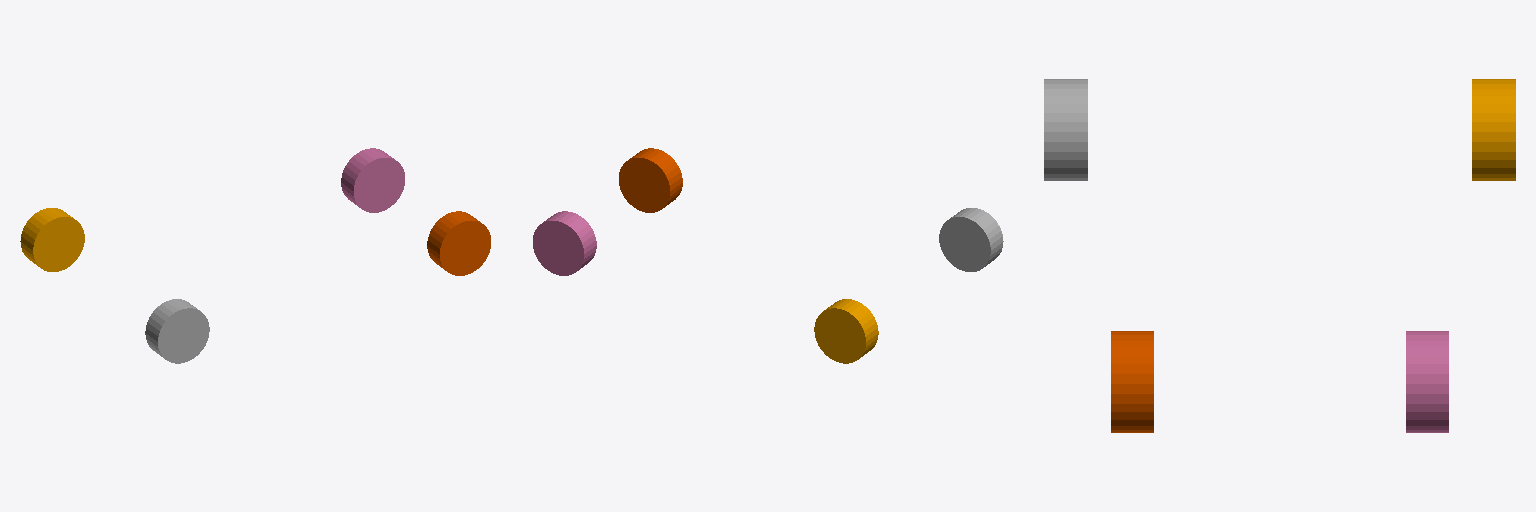
robot.urdf — omronld:
<?xml version="1.0" ?>
<!-- =================================================================================== -->
<!-- |    This document was autogenerated by xacro from omronld.urdf.xacro             | -->
<!-- |    EDITING THIS FILE BY HAND IS NOT RECOMMENDED                                 | -->
<!-- =================================================================================== -->
<robot name="omronld" xmlns:controller="http://playerstage.sourceforge.net/gazebo/xmlschema/#controller" xmlns:interface="http://playerstage.sourceforge.net/gazebo/xmlschema/#interface" xmlns:sensor="http://playerstage.sourceforge.net/gazebo/xmlschema/#sensor" xmlns:xacro="http://ros.org/wiki/xacro">
  <!--general-->
  <!--wheels-->
  <!-- LASER -->
  <!-- base_link origin point is center of rotation, on the floor. -->
  <link name="base_link">
    <inertial>
      <mass value="63.5664"/>
      <!-- kg -->
      <inertia ixx="3.1802" ixy="0" ixz="0" iyy="2.9908" iyz="0" izz="2.2912"/>
    </inertial>
    <visual>
      <geometry name="base_link_visual_geom">
        <mesh filename="package://omronld_description/meshes/omronld_visual.stl" scale="0.001 0.001 0.001"/>
      </geometry>
      <origin rpy="1.570795 0 1.570795" xyz="-0.000880947 0 0.0876498"/>
    </visual>
    <collision name="base_link_collision">
      <geometry name="base_link_collision_geom">
        <box size="0.7 0.5 0.05"/>
      </geometry>
      <origin rpy="0 0 0" xyz="0 0 0.1"/>
    </collision>
  </link>
  <!-- omronld wheel macros -->
  <link name="left_wheel_link">
    <inertial>
      <mass value="1.1"/>
      <origin xyz="0 0 0"/>
      <inertia ixx="0.02" ixy="0" ixz="0" iyy="0.02" iyz="0" izz="0.01"/>
    </inertial>
    <collision>
      <origin rpy="1.570795 0 0" xyz="0 0 0"/>
      <geometry>
        <cylinder length="0.048" radius="0.09684315"/>
      </geometry>
    </collision>
  </link>
  <gazebo reference="left_wheel_link">
    <!--http://wiki.ros.org/urdf/Tutorials/Adding%20Physical%20and%20Collision%20Properties%20to%20a%20URDF%20Model-->
    <mu1 value="100.0"/>
    <mu2 value="100.0"/>
    <kp value="10000000.0"/>
    <kd value="1.0"/>
    <fdir1 value="1 0 0"/>
  </gazebo>
  <joint name="left_wheel" type="continuous">
    <parent link="base_link"/>
    <child link="left_wheel_link"/>
    <origin rpy="0 0 0" xyz="0.0 0.19648885 0.09684315"/>
    <axis rpy="0 0 0" xyz="0 1 0"/>
    <joint_properties damping="1.0" friction="10.0"/>
  </joint>
  <transmission name="left_wheel_trans" type="SimpleTransmission">
    <type>transmission_interface/SimpleTransmission</type>
    <actuator name="left_wheel_motor">
      <mechanicalReduction>1</mechanicalReduction>
    </actuator>
    <joint name="left_wheel">
      <hardwareInterface>hardware_interface/EffortJointInterface</hardwareInterface>
    </joint>
  </transmission>
  <link name="right_wheel_link">
    <inertial>
      <mass value="1.1"/>
      <origin xyz="0 0 0"/>
      <inertia ixx="0.02" ixy="0" ixz="0" iyy="0.02" iyz="0" izz="0.01"/>
    </inertial>
    <collision>
      <origin rpy="1.570795 0 0" xyz="0 0 0"/>
      <geometry>
        <cylinder length="0.048" radius="0.09684315"/>
      </geometry>
    </collision>
  </link>
  <gazebo reference="right_wheel_link">
    <!--http://wiki.ros.org/urdf/Tutorials/Adding%20Physical%20and%20Collision%20Properties%20to%20a%20URDF%20Model-->
    <mu1 value="100.0"/>
    <mu2 value="100.0"/>
    <kp value="10000000.0"/>
    <kd value="1.0"/>
    <fdir1 value="1 0 0"/>
  </gazebo>
  <joint name="right_wheel" type="continuous">
    <parent link="base_link"/>
    <child link="right_wheel_link"/>
    <origin rpy="0 0 0" xyz="0.0 -0.19648885 0.09684315"/>
    <axis rpy="0 0 0" xyz="0 1 0"/>
    <joint_properties damping="1.0" friction="10.0"/>
  </joint>
  <transmission name="right_wheel_trans" type="SimpleTransmission">
    <type>transmission_interface/SimpleTransmission</type>
    <actuator name="right_wheel_motor">
      <mechanicalReduction>1</mechanicalReduction>
    </actuator>
    <joint name="right_wheel">
      <hardwareInterface>hardware_interface/EffortJointInterface</hardwareInterface>
    </joint>
  </transmission>
  <!-- LASER -->
  <link name="base_laser">
    <inertial>
      <mass value="1.1"/>
      <origin xyz="0 0 0"/>
      <inertia ixx="0.00307156543804" ixy="0.0" ixz="0.0" iyy="0.00312849041527" iyz="0.0" izz="0.00196432421427"/>
    </inertial>
    <visual>
      <origin rpy="0 0 0" xyz="0 0 0"/>
      <geometry>
        <!-- Origin of this mesh is the focal point of the LIDAR. -->
        <mesh filename="package://omronld_description/meshes/laser/sick-lms1xx.dae"/>
      </geometry>
    </visual>
    <collision>
      <origin rpy="0 0 0" xyz="0 0 -0.05"/>
      <geometry>
        <box size="0.105 0.1 0.1"/>
      </geometry>
    </collision>
  </link>
  <joint name="base_laser_joint" type="fixed">
    <origin rpy="3.14159 0.0 0.0" xyz="0.2652 0.0 0.201"/>
    <parent link="base_link"/>
    <child link="base_laser"/>
  </joint>
  <gazebo reference="base_laser">
    <turnGravityOff>false</turnGravityOff>
    <sensor name="base_laser" type="ray">
      <pose>0 0 0 0 0 0</pose>
      <visualize>false</visualize>
      <update_rate>50</update_rate>
      <ray>
        <scan>
          <horizontal>
            <samples>720</samples>
            <resolution>1</resolution>
            <min_angle>-2.0944</min_angle>
            <max_angle>2.0944</max_angle>
          </horizontal>
        </scan>
        <range>
          <min>0.1</min>
          <max>15</max>
          <resolution>0.01</resolution>
        </range>
        <noise>
          <type>gaussian</type>
          <mean>0.0</mean>
          <stddev>0.001</stddev>
        </noise>
      </ray>
      <plugin filename="libgazebo_ros_laser.so" name="gazebo_ros_laser">
        <topicName>scan</topicName>
        <frameName>base_laser</frameName>
      </plugin>
    </sensor>
  </gazebo>
  <link name="base_laser_fake">
    <inertial>
      <mass value="1.1"/>
      <origin xyz="0 0 0"/>
      <inertia ixx="0.00307156543804" ixy="0.0" ixz="0.0" iyy="0.00312849041527" iyz="0.0" izz="0.00196432421427"/>
    </inertial>
    <visual>
      <origin rpy="0 0 0" xyz="0 0 0"/>
      <geometry>
        <!-- Origin of this mesh is the focal point of the LIDAR. -->
        <mesh filename="package://omronld_description/meshes/laser/sick-lms1xx.dae"/>
      </geometry>
    </visual>
    <collision>
      <origin rpy="0 0 0" xyz="0 0 -0.05"/>
      <geometry>
        <box size="0.105 0.1 0.1"/>
      </geometry>
    </collision>
  </link>
  <joint name="base_laser_fake_joint" type="fixed">
    <origin rpy="-3.14159 0.0 0.0" xyz="-0.2652 0.0 0.201"/>
    <parent link="base_link"/>
    <child link="base_laser_fake"/>
  </joint>
  <gazebo reference="base_laser_fake">
    <turnGravityOff>false</turnGravityOff>
    <sensor name="base_laser_fake" type="ray">
      <pose>0 0 0 0 0 0</pose>
      <visualize>false</visualize>
      <update_rate>50</update_rate>
      <ray>
        <scan>
          <horizontal>
            <samples>720</samples>
            <resolution>1</resolution>
            <min_angle>-2.0944</min_angle>
            <max_angle>2.0944</max_angle>
          </horizontal>
        </scan>
        <range>
          <min>0.1</min>
          <max>15</max>
          <resolution>0.01</resolution>
        </range>
        <noise>
          <type>gaussian</type>
          <mean>0.0</mean>
          <stddev>0.001</stddev>
        </noise>
      </ray>
      <plugin filename="libgazebo_ros_laser.so" name="gazebo_ros_laser">
        <topicName>scanFake</topicName>
        <frameName>base_laser_fake</frameName>
      </plugin>
    </sensor>
  </gazebo>
  <!-- GAZEBO PLUGINS-->
  <!-- http://wiki.ros.org/urdf/Tutorials/Using%20a%20URDF%20in%20Gazebo-->
  <gazebo>
    <plugin filename="libgazebo_ros_control.so" name="gazebo_ros_control">
      <legacyModeNS>false</legacyModeNS>
      <robotParam>/omronld_description</robotParam>
    </plugin>
  </gazebo>
  <gazebo>
    <plugin filename="libgazebo_ros_diff_drive.so" name="differential_drive_controller">
      <rosDebugLevel>Debug</rosDebugLevel>
      <legacyMode>false</legacyMode>
      <publishWheelTF>false</publishWheelTF>
      <robotNamespace>/</robotNamespace>
      <publishTf>1</publishTf>
      <publishWheelJointState>true</publishWheelJointState>
      <alwaysOn>true</alwaysOn>
      <updateRate>100.0</updateRate>
      <leftJoint>left_wheel</leftJoint>
      <rightJoint>right_wheel</rightJoint>
      <wheelSeparation>0.3929777</wheelSeparation>
      <wheelDiameter>0.1936863</wheelDiameter>
      <broadcastTF>1</broadcastTF>
      <wheelTorque>100</wheelTorque>
      <wheelAcceleration>1.8</wheelAcceleration>
      <commandTopic>cmd_vel</commandTopic>
      <odometryFrame>odom</odometryFrame>
      <odometryTopic>odom</odometryTopic>
      <robotBaseFrame>base_link</robotBaseFrame>
    </plugin>
  </gazebo>
  <!-- four passive caster  -->
  <link name="r_f_caster_caster_link">
    <inertial>
      <mass value="0.05"/>
      <origin xyz="0 0 0"/>
      <inertia ixx="0.01" ixy="0" ixz="0" iyy="0.01" iyz="0" izz="0.01"/>
    </inertial>
    <collision>
      <origin rpy="1.570795 0 0" xyz="0 0 0"/>
      <geometry>
        <cylinder length="0.03175" radius="0.0375"/>
      </geometry>
    </collision>
    <visual>
      <origin rpy="1.570795 0 0" xyz="0 0 0"/>
      <geometry>
        <cylinder length="0.03175" radius="0.0375"/>
      </geometry>
    </visual>
  </link>
  <joint name="r_f_caster_caster" type="fixed">
    <parent link="base_link"/>
    <child link="r_f_caster_caster_link"/>
    <axis rpy="0 0 0" xyz="0 0 1"/>
    <origin rpy="0 0 0" xyz="0.2076340 -0.10795 0.0375"/>
  </joint>
  <link name="l_f_caster_caster_link">
    <inertial>
      <mass value="0.05"/>
      <origin xyz="0 0 0"/>
      <inertia ixx="0.01" ixy="0" ixz="0" iyy="0.01" iyz="0" izz="0.01"/>
    </inertial>
    <collision>
      <origin rpy="1.570795 0 0" xyz="0 0 0"/>
      <geometry>
        <cylinder length="0.03175" radius="0.0375"/>
      </geometry>
    </collision>
    <visual>
      <origin rpy="1.570795 0 0" xyz="0 0 0"/>
      <geometry>
        <cylinder length="0.03175" radius="0.0375"/>
      </geometry>
    </visual>
  </link>
  <joint name="l_f_caster_caster" type="fixed">
    <parent link="base_link"/>
    <child link="l_f_caster_caster_link"/>
    <axis rpy="0 0 0" xyz="0 0 1"/>
    <origin rpy="0 0 0" xyz="0.2076340 0.10795 0.0375"/>
  </joint>
  <link name="r_b_caster_caster_link">
    <inertial>
      <mass value="0.05"/>
      <origin xyz="0 0 0"/>
      <inertia ixx="0.01" ixy="0" ixz="0" iyy="0.01" iyz="0" izz="0.01"/>
    </inertial>
    <collision>
      <origin rpy="1.570795 0 0" xyz="0 0 0"/>
      <geometry>
        <cylinder length="0.03175" radius="0.0375"/>
      </geometry>
    </collision>
    <visual>
      <origin rpy="1.570795 0 0" xyz="0 0 0"/>
      <geometry>
        <cylinder length="0.03175" radius="0.0375"/>
      </geometry>
    </visual>
  </link>
  <joint name="r_b_caster_caster" type="fixed">
    <parent link="base_link"/>
    <child link="r_b_caster_caster_link"/>
    <axis rpy="0 0 0" xyz="0 0 1"/>
    <origin rpy="0 0 0" xyz="-0.2287113 -0.15664945 0.0375"/>
  </joint>
  <link name="l_b_caster_caster_link">
    <inertial>
      <mass value="0.05"/>
      <origin xyz="0 0 0"/>
      <inertia ixx="0.01" ixy="0" ixz="0" iyy="0.01" iyz="0" izz="0.01"/>
    </inertial>
    <collision>
      <origin rpy="1.570795 0 0" xyz="0 0 0"/>
      <geometry>
        <cylinder length="0.03175" radius="0.0375"/>
      </geometry>
    </collision>
    <visual>
      <origin rpy="1.570795 0 0" xyz="0 0 0"/>
      <geometry>
        <cylinder length="0.03175" radius="0.0375"/>
      </geometry>
    </visual>
  </link>
  <joint name="l_b_caster_caster" type="fixed">
    <parent link="base_link"/>
    <child link="l_b_caster_caster_link"/>
    <axis rpy="0 0 0" xyz="0 0 1"/>
    <origin rpy="0 0 0" xyz="-0.2287113 0.15664945 0.0375"/>
  </joint>
</robot>

--- Facts derived from the render (not from the file) ---
Views: 3 orthographic renders of the robot side by side, from view 1: azimuth 30°, elevation 25°; view 2: azimuth 150°, elevation 25°; view 3: azimuth 270°, elevation 25°.
Robot: omronld — 9 links, 8 joints (2 continuous, 6 fixed); root link base_link; default pose: every joint at zero.
Visible links, largest first — view 1: l_f_caster_caster_link, r_f_caster_caster_link, r_b_caster_caster_link, l_b_caster_caster_link; view 2: r_f_caster_caster_link, l_f_caster_caster_link, l_b_caster_caster_link, r_b_caster_caster_link; view 3: r_b_caster_caster_link, l_b_caster_caster_link, r_f_caster_caster_link, l_f_caster_caster_link.
Boxes of the visible links, x1,y1,x2,y2 form: l_f_caster_caster_link: (341,148,404,212); r_f_caster_caster_link: (427,211,490,275); r_b_caster_caster_link: (145,299,209,363); l_b_caster_caster_link: (20,208,84,271); r_f_caster_caster_link: (619,148,682,212); l_f_caster_caster_link: (533,211,596,275); l_b_caster_caster_link: (814,299,878,363); r_b_caster_caster_link: (939,208,1003,271); r_b_caster_caster_link: (1044,79,1087,180); l_b_caster_caster_link: (1472,79,1515,180); r_f_caster_caster_link: (1111,331,1153,432); l_f_caster_caster_link: (1406,331,1448,432).
Size in the robot's own frame: 0.5113 by 0.345 by 0.075 metres.
0 mesh visuals loaded from 2 distinct referenced files (none loaded); not drawn: 3 (reference not matched to a file when rendering).
